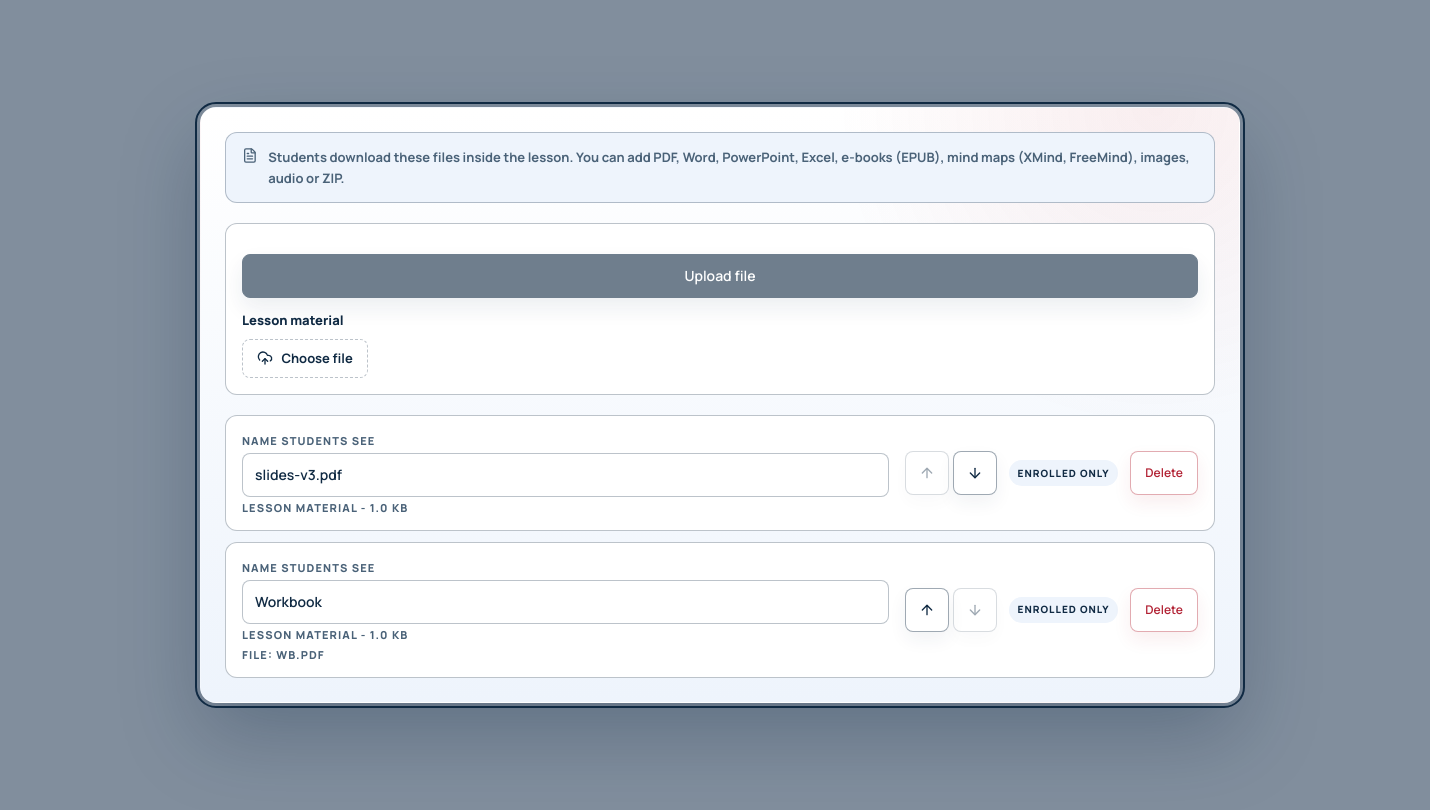
nome e ordem dos materiais › falha ao gravar a ordem avisa, sem fingir que salvou
Click the button named "Move \"slides-v3.pdf\" down": x=975, y=473 [953, 451, 997, 495]
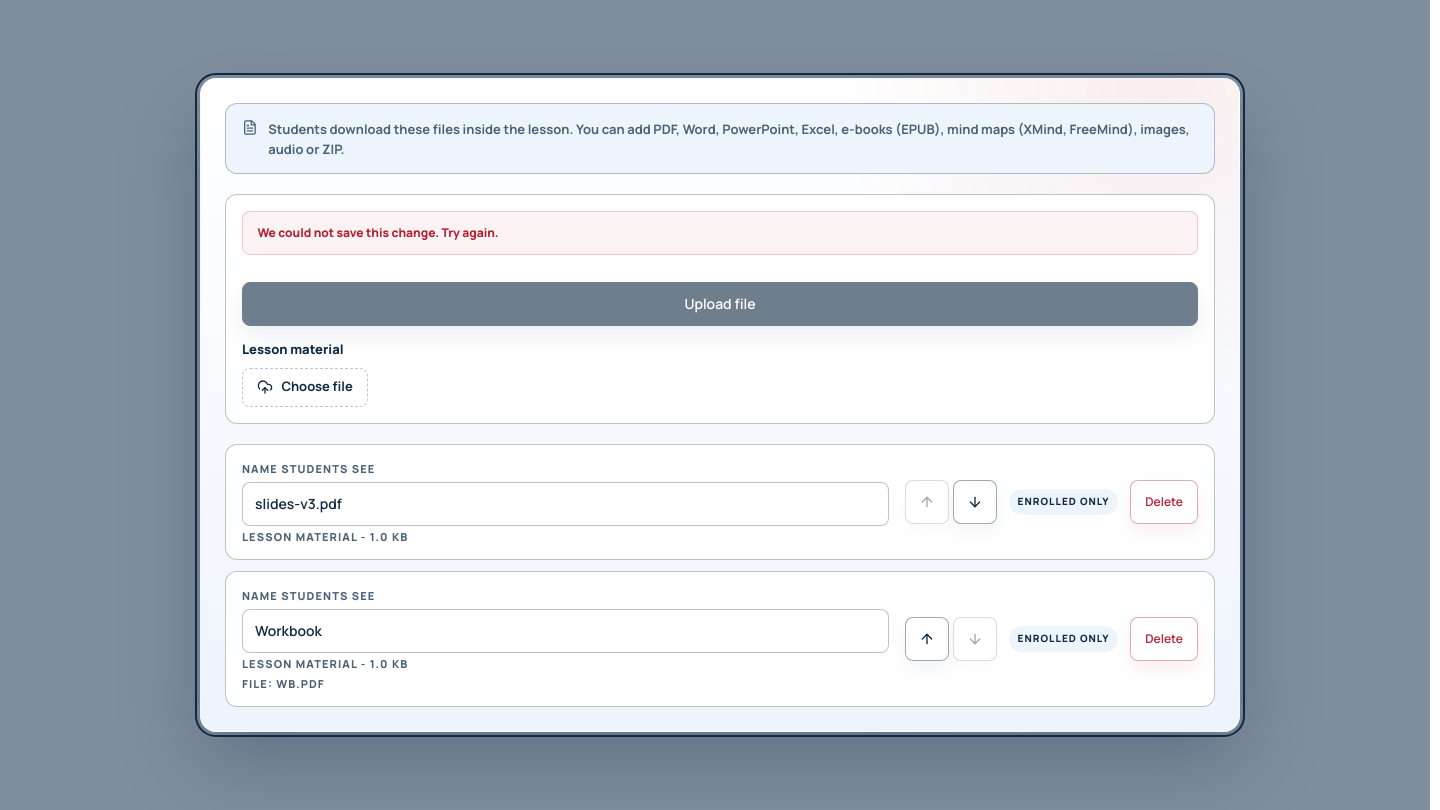
Result: the text "We could not save this change. Try again." is shown at [242, 211, 1198, 255]
